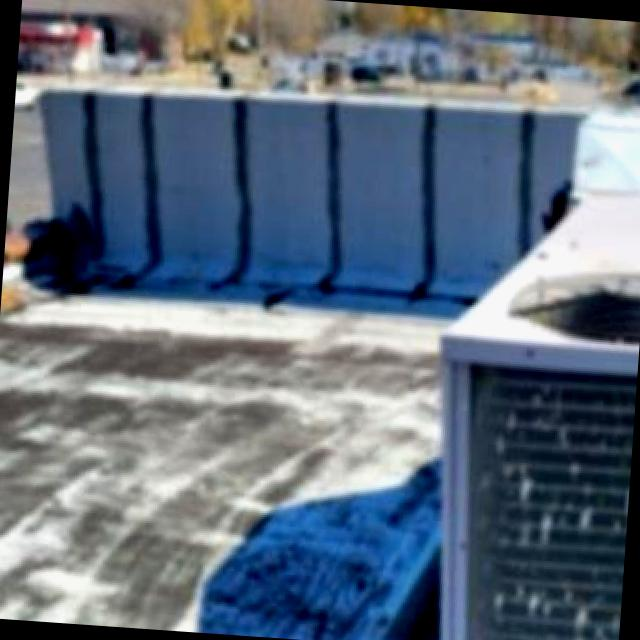SPLIT-SYSTEM: (409, 176, 640, 640)
